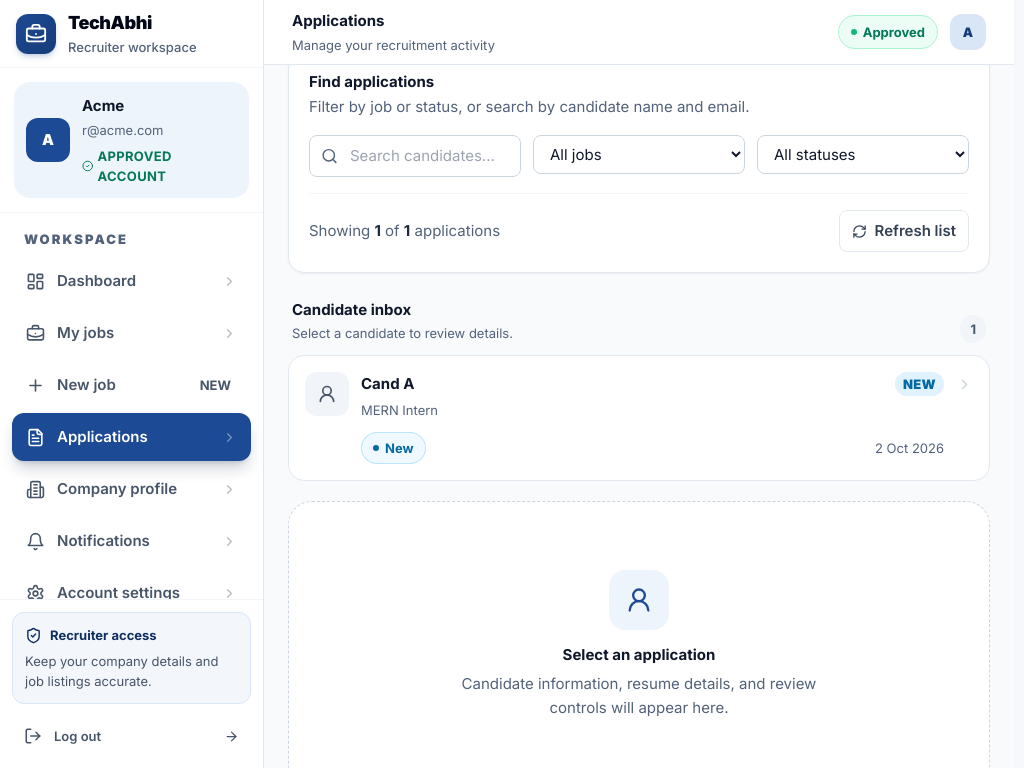
Scenario: recruiter area › applications: detail shows only what was shared and offers resume download when a file exists
(page scrolled)
Click the text "Cand A" at (388, 384), box [361,372,414,396]
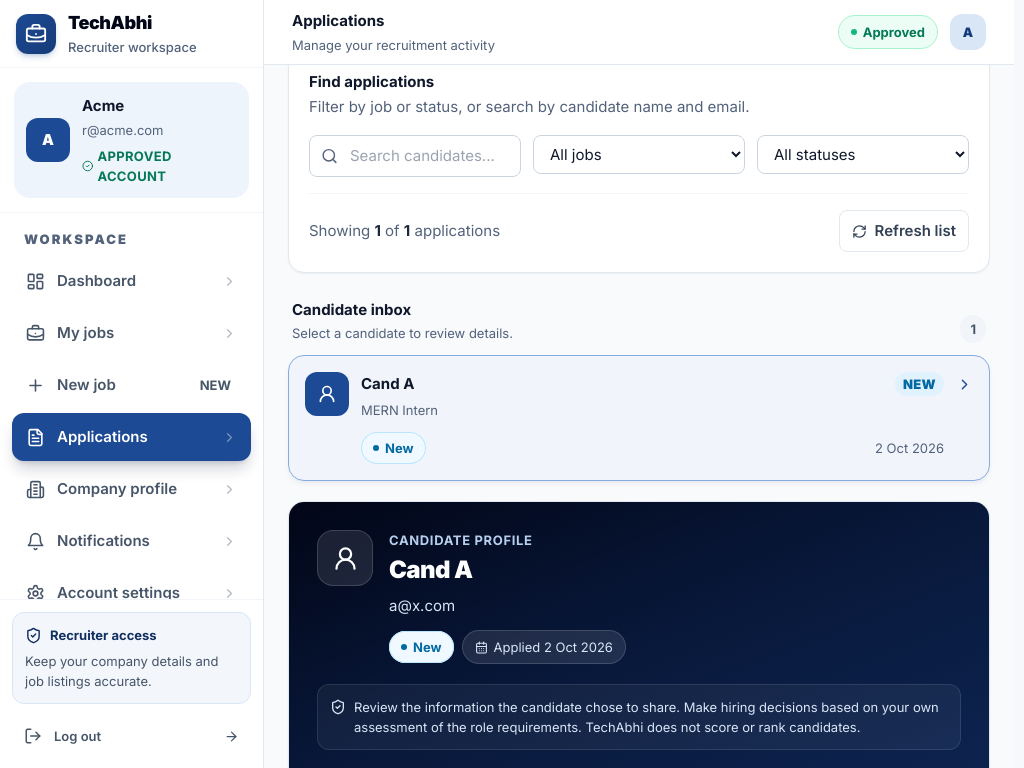
Result: the text "a@x.com" is shown at [389,596,455,615]
Result: the text "does not score or rank" is shown at [354,699,939,735]
